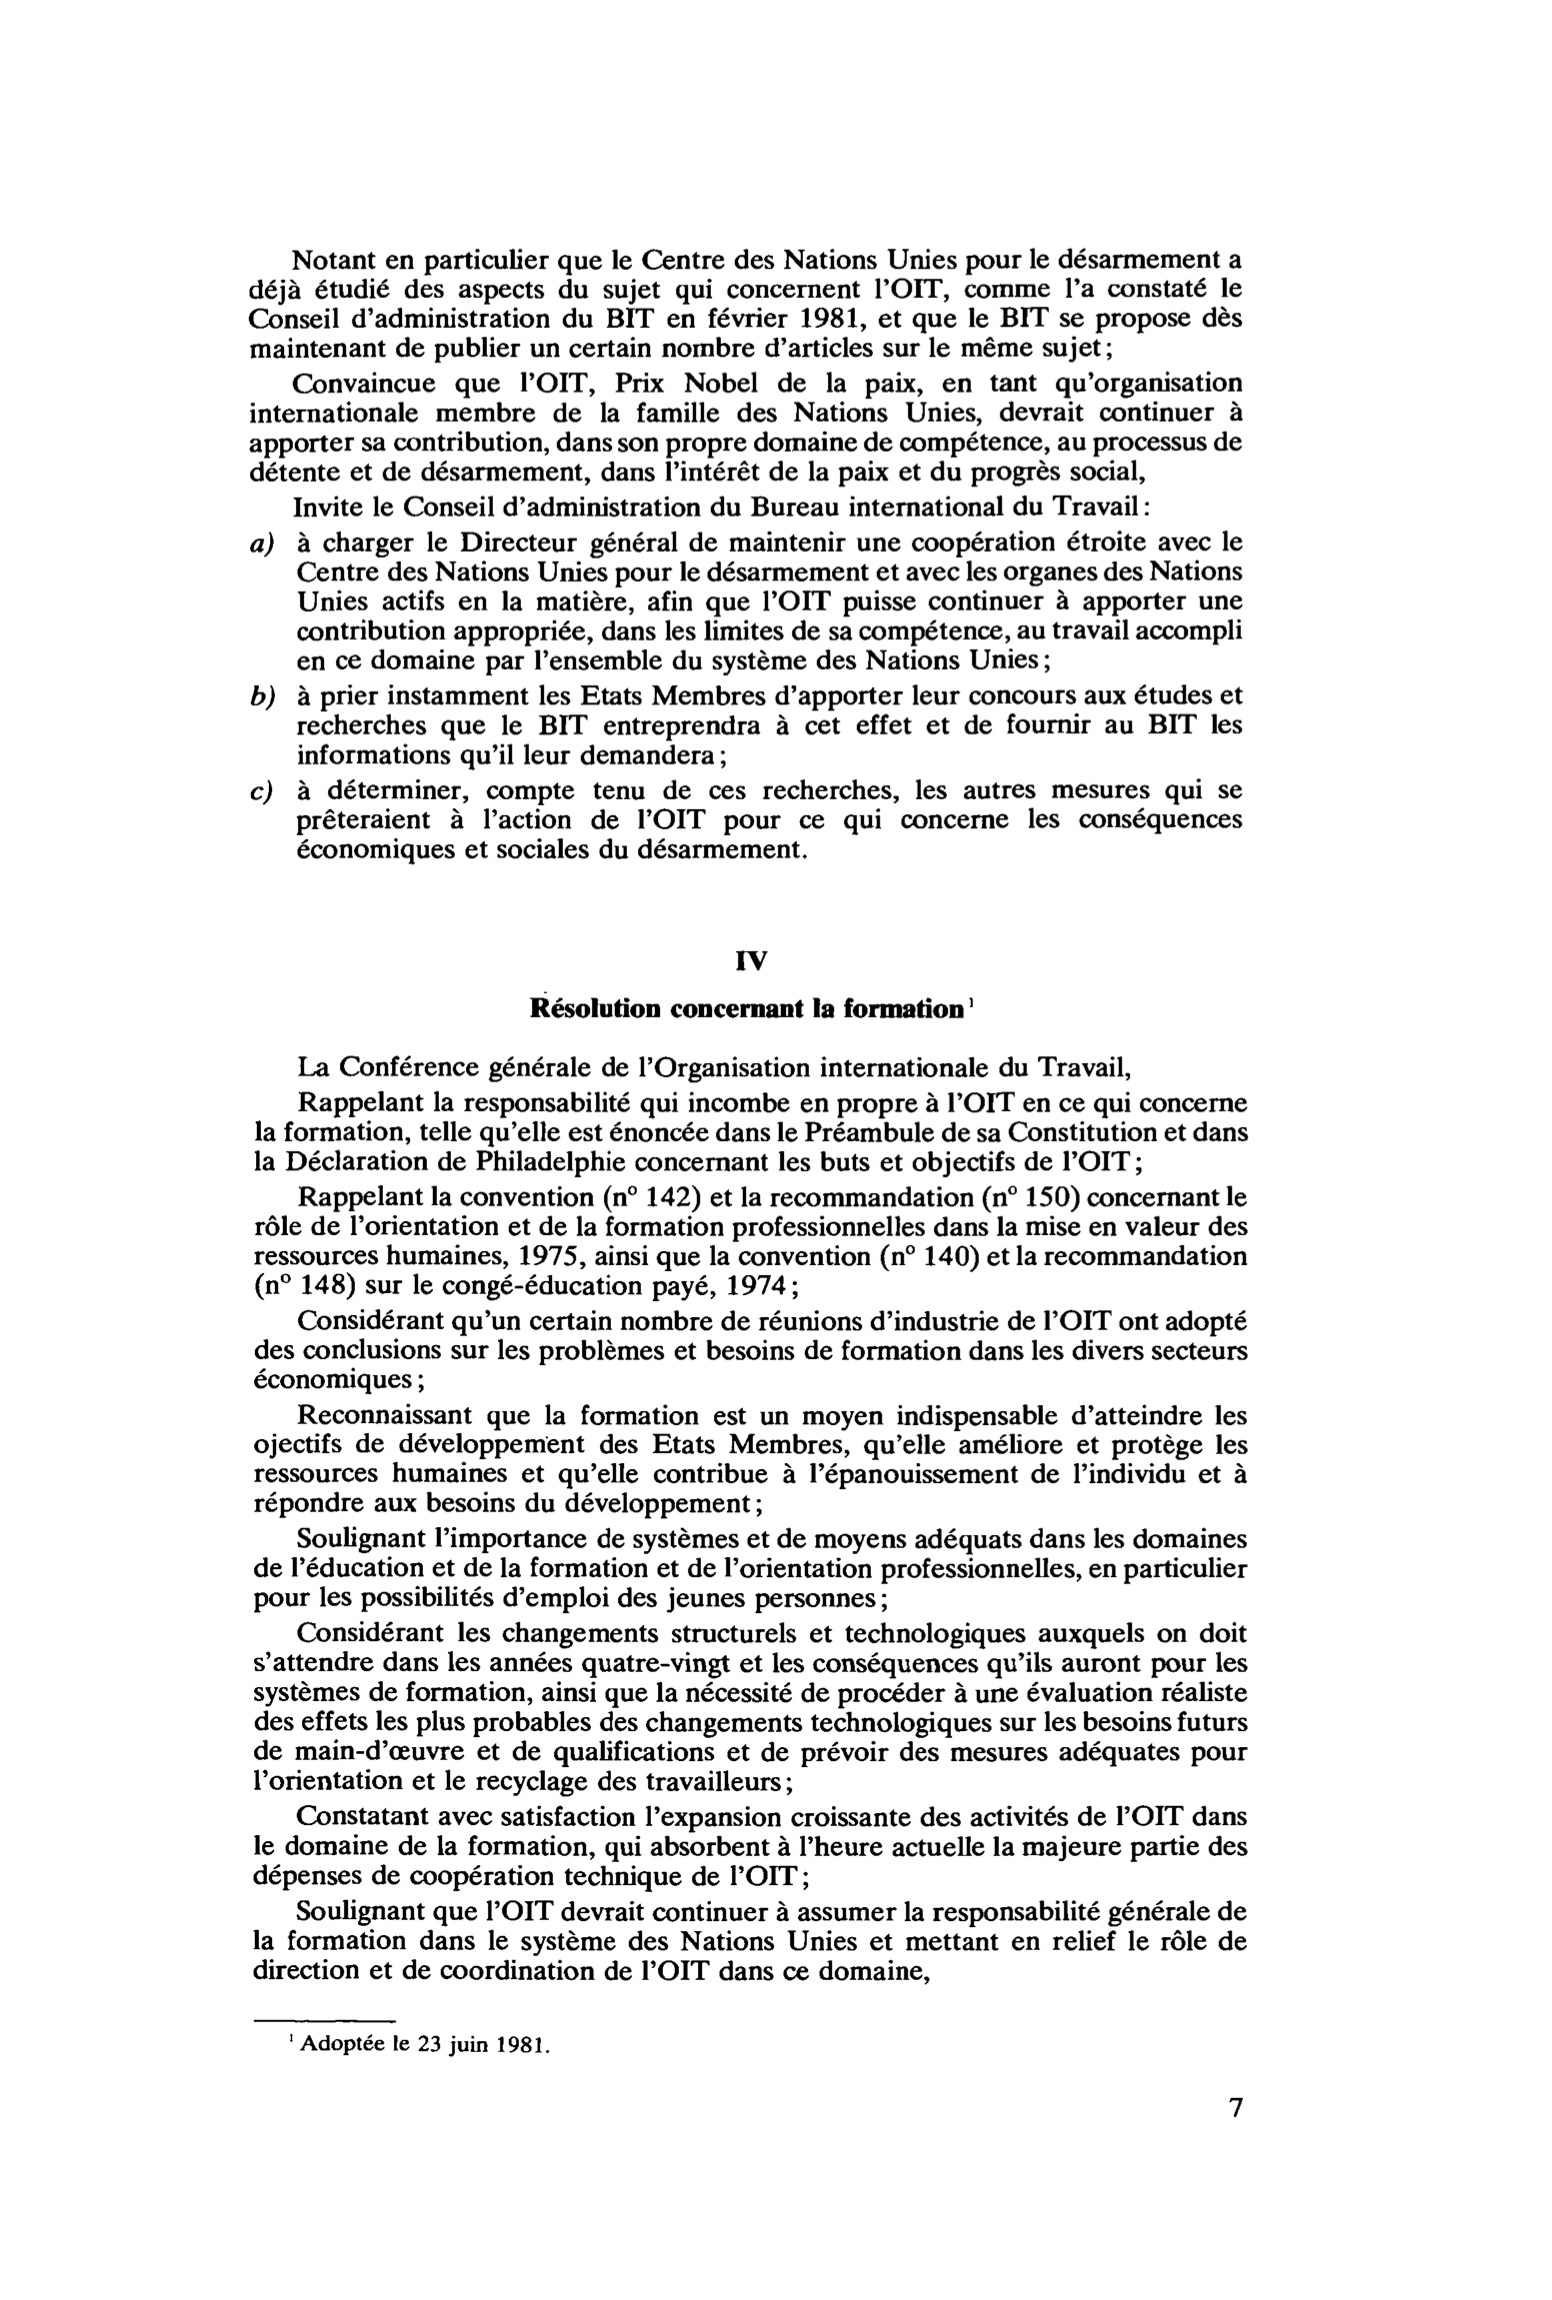MainZone-Head: (514, 987, 983, 1024), (731, 941, 771, 977)
MainZone-ListItem: (230, 524, 1252, 676), (238, 772, 1252, 871), (235, 679, 1252, 773)
MainZone-P: (245, 1614, 1261, 1800), (234, 238, 1254, 365), (239, 1180, 1259, 1304), (232, 364, 1256, 487), (238, 1399, 1259, 1522), (238, 1893, 1259, 1994), (238, 1521, 1260, 1615), (240, 1800, 1262, 1893), (238, 1304, 1259, 1397), (239, 1086, 1255, 1178), (251, 1047, 1166, 1085), (233, 489, 1191, 523)
MarginTextZone-Notes: (275, 2028, 562, 2064)
NumberingZone: (1219, 2085, 1254, 2129)
